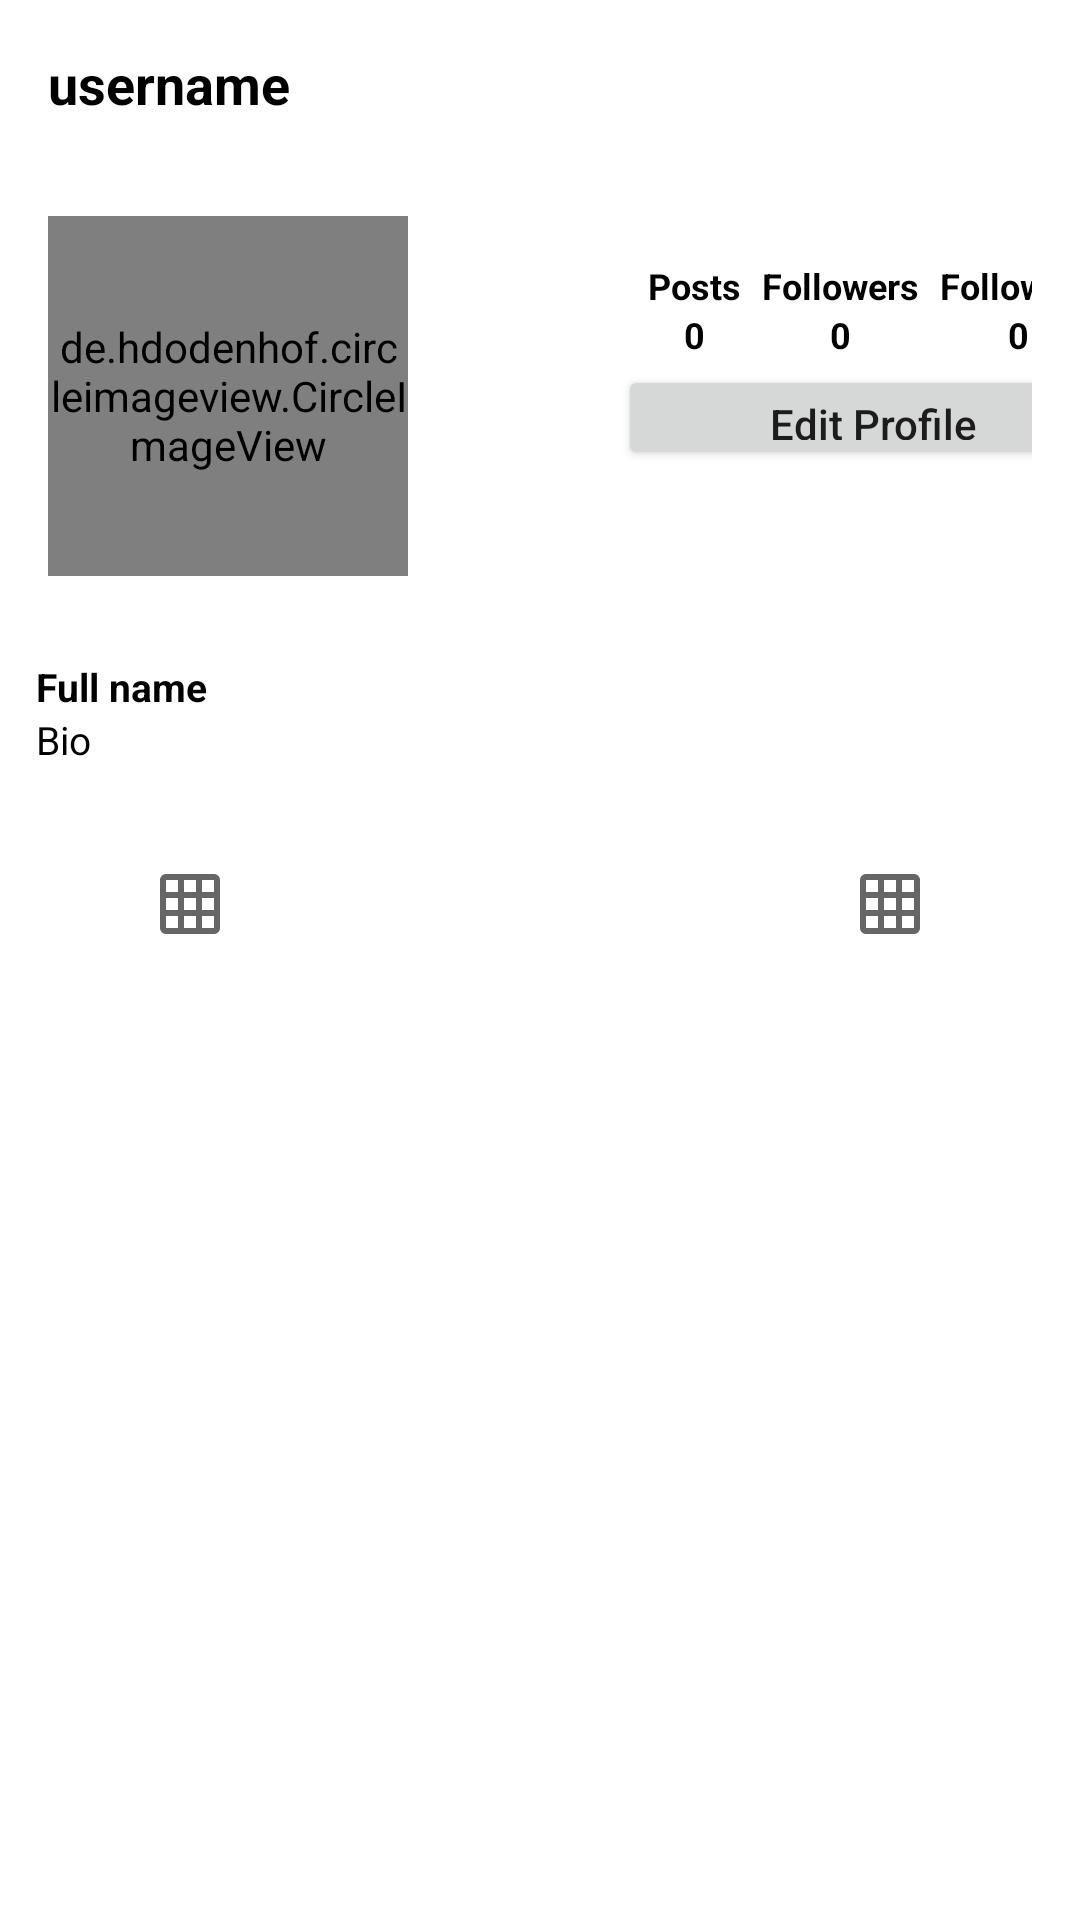

Screen size 1080×1920. Icon name, then its center in pixels as (x,y):
grid: (190,904), (890,904)
